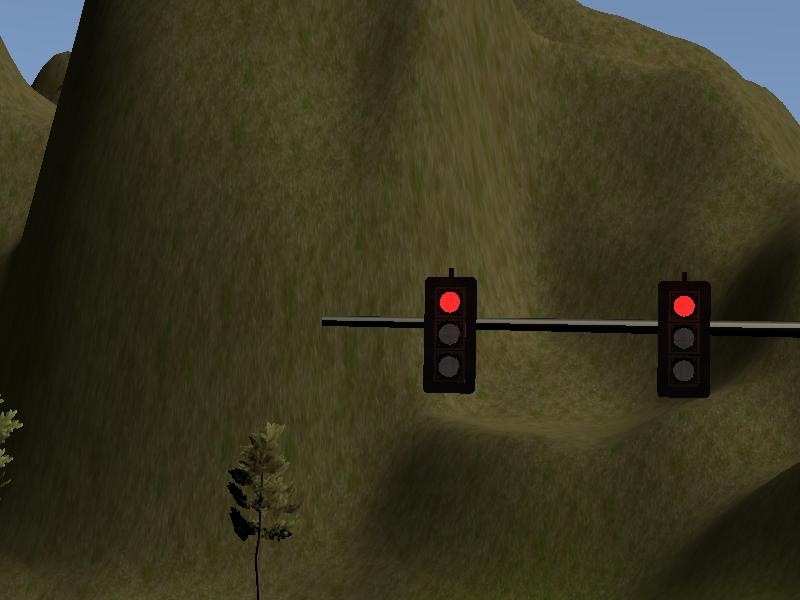RED: (657, 282, 709, 397), (425, 277, 477, 392)
